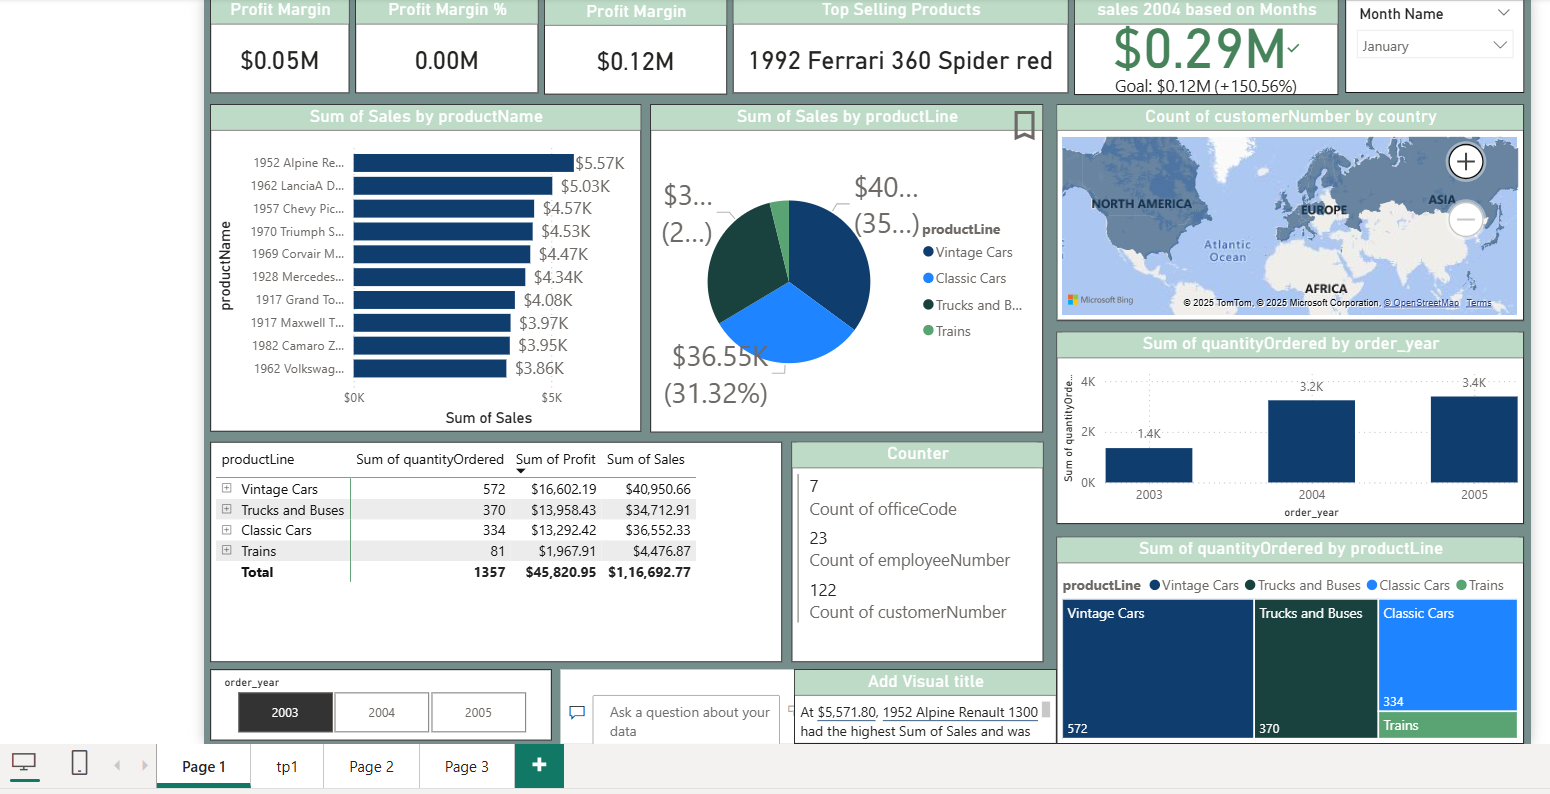

The page's visual inventory and layout, read from the dashboard file:
{"tool":"powerbi","page":{"name":"Page 1","canvas":[1280,720],"ordinal":0},"visuals":[{"type":"card","title":"Profit Margin","fields":{"Values":["order details.total_profit"]},"box":[5.5,0,134.5,91.9],"z":0},{"type":"card","title":"Top Selling Products","fields":{"Values":["Min(orders.Mop)"]},"box":[510.5,0,323.8,91.9],"z":1000},{"type":"barChart","fields":{"Category":["products.productName"],"Y":["Sum(order details.Sales)"]},"box":[5.5,102.9,415.8,315.6],"z":2000},{"type":"pieChart","fields":{"Category":["products.productLine"],"Y":["Sum(order details.Sales)"]},"box":[430.6,102.1,379.6,316.6],"z":3000},{"type":"pivotTable","fields":{"Rows":["products.productLine","products.productName"],"Values":["Sum(order details.quantityOrdered)","Sum(order details.Profit)","Sum(order details.Sales)"]},"box":[5.5,428.1,551.6,212.7],"z":4000},{"type":"slicer","fields":{"Values":["orders.order_year"]},"box":[5.5,647.7,329.3,68.6],"z":5000},{"type":"slicer","fields":{"Values":["orders.Month Name"]},"box":[1101.9,1.4,172.9,90.6],"z":6000},{"type":"multiRowCard","title":"Counter","fields":{"Values":["offices.officeCode","Count(employees.employeeNumber)","customers.customerNumber"]},"box":[566.7,428.1,242.9,212.7],"z":7000},{"type":"kpi","title":"sales 2004 based on Months","fields":{"Goal":["orders.sales_2003"],"TrendLine":["orders.Month Name"],"Indicator":["orders.sales_2004"]},"box":[839.8,0,255.2,93.3],"z":8000},{"type":"filledMap","fields":{"Category":["customers.country"]},"box":[823.3,102.9,451.5,208.6],"z":9000},{"type":"treemap","fields":{"Values":["Sum(order details.quantityOrdered)"],"Group":["products.productLine"]},"box":[823.3,520.1,451.5,200.3],"z":10000},{"type":"columnChart","fields":{"Category":["orders.order_year"],"Y":["Sum(order details.quantityOrdered)"]},"box":[823.3,322.5,451.5,185.2],"z":11000},{"type":"card","title":"Profit Margin %","fields":{"Values":["classicmodels.profit_margin_%"]},"box":[145.5,0,177,91.9],"z":12000},{"type":"card","title":"Profit Margin","fields":{"Values":["Sum(order details.Sales)"]},"box":[328,1.4,177,91.9],"z":13000},{"type":"actionButton","box":[772.8,102.1,37.4,40.9],"z":14000},{"type":"qnaVisual","box":[343.8,647.9,242.5,72.4],"z":15000},{"type":"textbox","title":"Add Visual title","box":[569.4,647.6,253.4,72.4],"z":16000}]}

Visuals, with their boxes on the page's 1280x720 design canvas (x1, y1, x2, y2). These are canvas units, not pixel positions in the 1550x794 screenshot, which may show the page scaled, cropped or inside an application window:
"Profit Margin" card: 6, 0, 140, 92
"Top Selling Products" card: 510, 0, 834, 92
barChart - products.productName x Sum(order details.Sales): 6, 103, 421, 418
pieChart - products.productLine x Sum(order details.Sales): 431, 102, 810, 419
pivotTable - products.productLine x products.productName: 6, 428, 557, 641
slicer - orders.order_year: 6, 648, 335, 716
slicer - orders.Month Name: 1102, 1, 1275, 92
"Counter" multiRowCard: 567, 428, 810, 641
"sales 2004 based on Months" kpi: 840, 0, 1095, 93
filledMap - customers.country: 823, 103, 1275, 312
treemap - Sum(order details.quantityOrdered) x products.productLine: 823, 520, 1275, 720
columnChart - orders.order_year x Sum(order details.quantityOrdered): 823, 322, 1275, 508
"Profit Margin %" card: 146, 0, 322, 92
"Profit Margin" card: 328, 1, 505, 93
actionButton: 773, 102, 810, 143
qnaVisual: 344, 648, 586, 720
"Add Visual title" textbox: 569, 648, 823, 720
